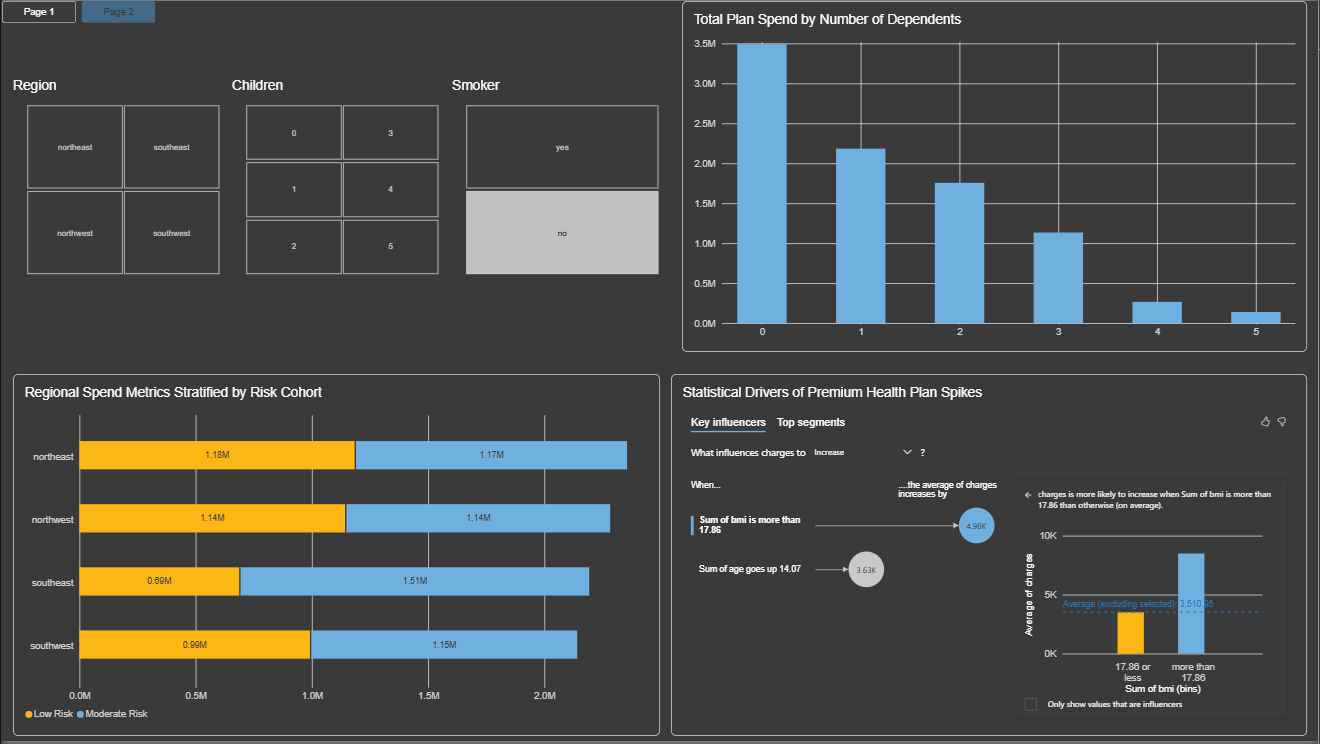

What the dashboard file says about the page in this screenshot:
{"tool":"powerbi","page":{"name":"Page 2","canvas":[1920,1080],"ordinal":1},"visuals":[{"type":"slicer","title":"Region","fields":{"Values":["clean_insurance_data.region"]},"box":[16,112,320,288],"z":0},{"type":"slicer","title":"Children","fields":{"Values":["clean_insurance_data.children"]},"box":[336,112,320,288],"z":1000},{"type":"barChart","title":"Regional Spend Metrics Stratified by Risk Cohort","fields":{"Category":["clean_insurance_data.region"],"Series":["clean_insurance_data.Risk_Tier"],"Y":["clean_insurance_data.Total Plan Spend"]},"box":[16,544,944,528],"z":2000},{"type":"keyDriversVisual","title":"Statistical Drivers of Premium Health Plan Spikes","fields":{"ExplainBy":["Sum(clean_insurance_data.bmi)","clean_insurance_data.smoker","Sum(clean_insurance_data.age)","Sum(clean_insurance_data.children)"],"Target":["clean_insurance_data.charges"]},"box":[976,544,928,528],"z":3000},{"type":"clusteredColumnChart","title":"Total Plan Spend by Number of Dependents","fields":{"Category":["clean_insurance_data.children"],"Y":["clean_insurance_data.Total Plan Spend"]},"box":[992,0,912,512],"z":4000},{"type":"pageNavigator","box":[0,0,224,32],"z":4001},{"type":"slicer","title":"Smoker","fields":{"Values":["clean_insurance_data.smoker"]},"box":[656,112,320,288],"z":4002}]}

Visuals, with their boxes in screenshot pixels (x1, y1, x2, y2), scaled from the page's 1920x1080 canvas onto the 1320x744 screenshot:
"Region" slicer: x1=11 y1=77 x2=231 y2=276
"Children" slicer: x1=231 y1=77 x2=451 y2=276
"Regional Spend Metrics Stratified by Risk Cohort" barChart: x1=11 y1=375 x2=660 y2=738
"Statistical Drivers of Premium Health Plan Spikes" keyDriversVisual: x1=671 y1=375 x2=1309 y2=738
"Total Plan Spend by Number of Dependents" clusteredColumnChart: x1=682 y1=0 x2=1309 y2=353
pageNavigator: x1=0 y1=0 x2=154 y2=22
"Smoker" slicer: x1=451 y1=77 x2=671 y2=276
